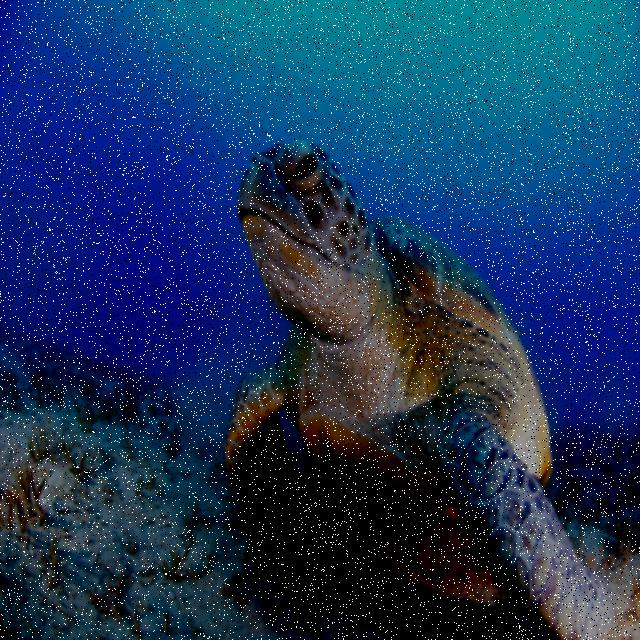tortoise: (210, 104, 554, 492)
